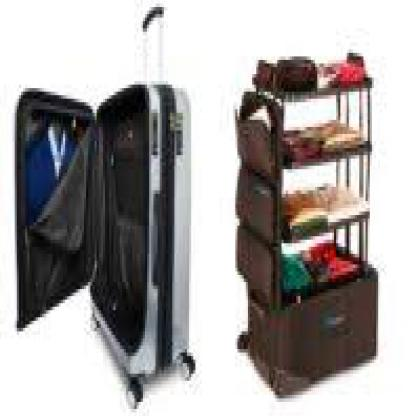maleta: (13, 67, 208, 412)
